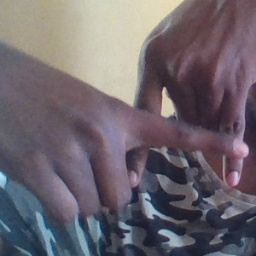H: (112, 52, 251, 203)
